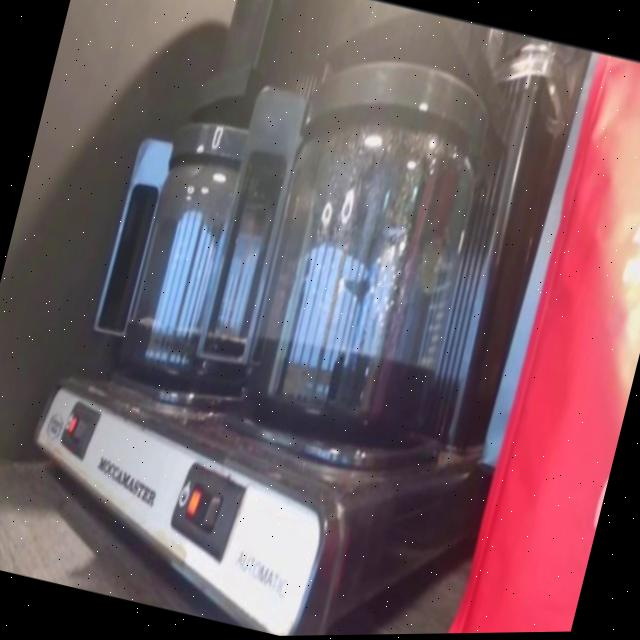coffee: (194, 22, 538, 485), (100, 88, 322, 422)
